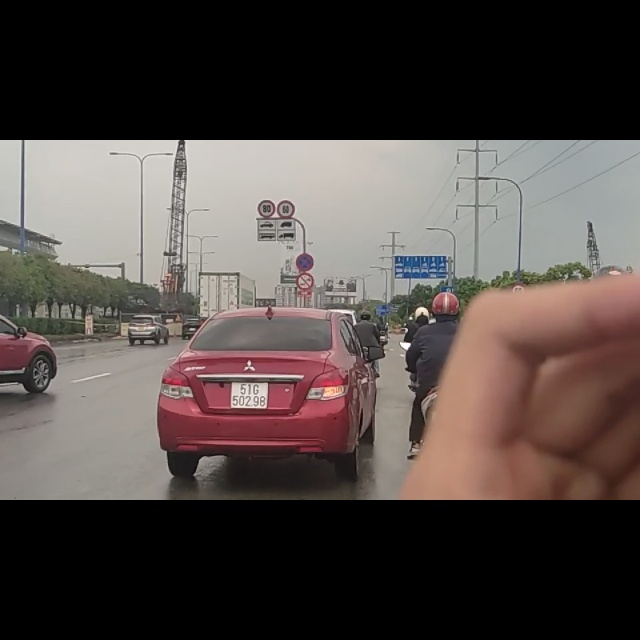bien_cam: (295, 200, 314, 233)
